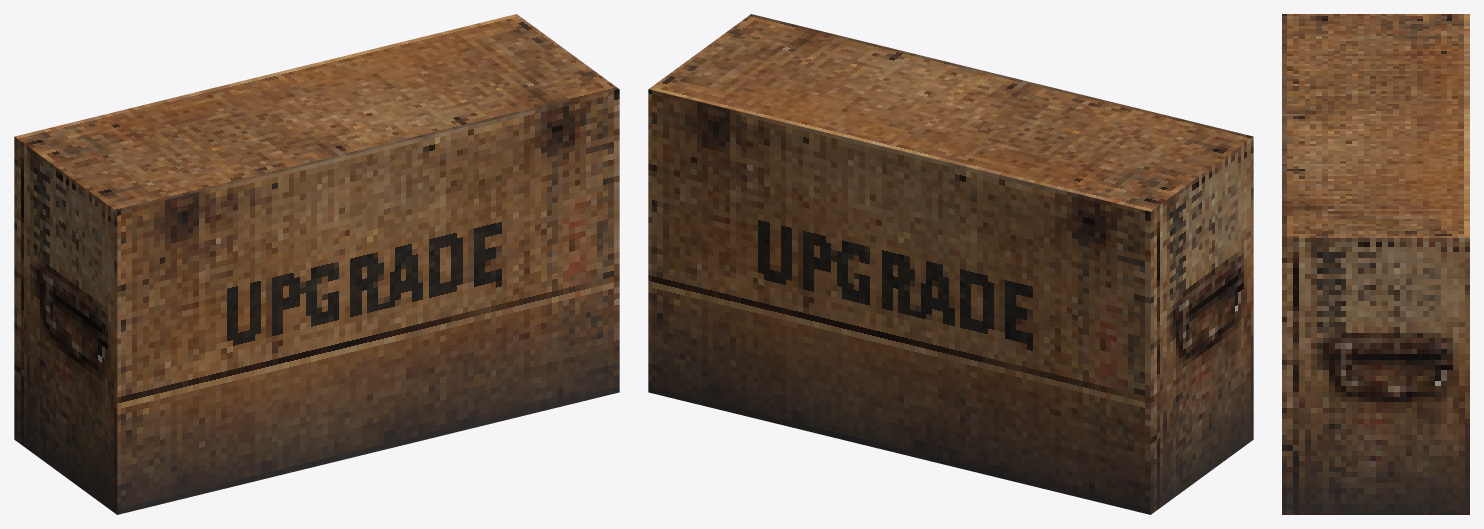
Rendered from upgarde_1.glb.
3 views of the same model, side by side, from view 1: azimuth 30°, elevation 25°; view 2: azimuth 150°, elevation 25°; view 3: azimuth 270°, elevation 25° (orthographic). The views are drawn at different scales.
Parts seen in each view (by area): view 1: Cube.002; view 2: Cube.002; view 3: Cube.002.
Part boxes in pixels (x1,y1,x2,y2): Cube.002: (14,14,619,514); Cube.002: (648,14,1253,514); Cube.002: (1282,14,1469,514).
Size of the model in its own units: 1.08 by 0.6233 by 0.383.
Materials: 1 (1 with a texture image).
